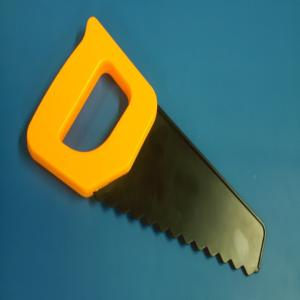serrote: (26, 16, 268, 276)
